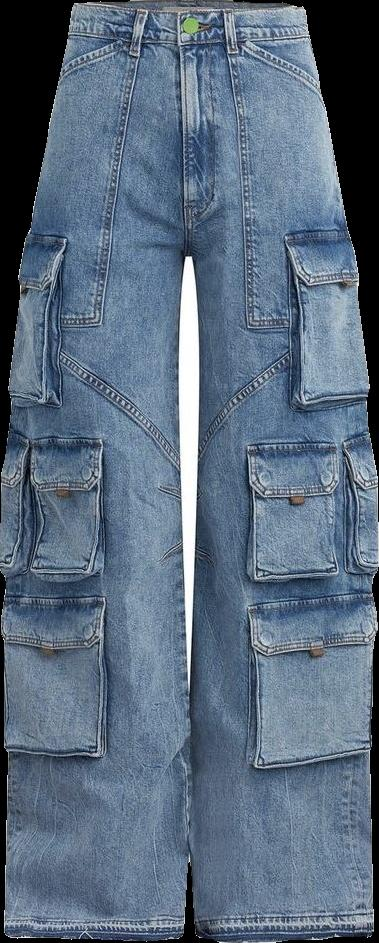Hemline: (3, 925, 184, 942), (196, 925, 375, 942)
Pantleg: (173, 0, 378, 942), (0, 0, 190, 940)
Waistline: (66, 29, 310, 51), (71, 0, 304, 15)
